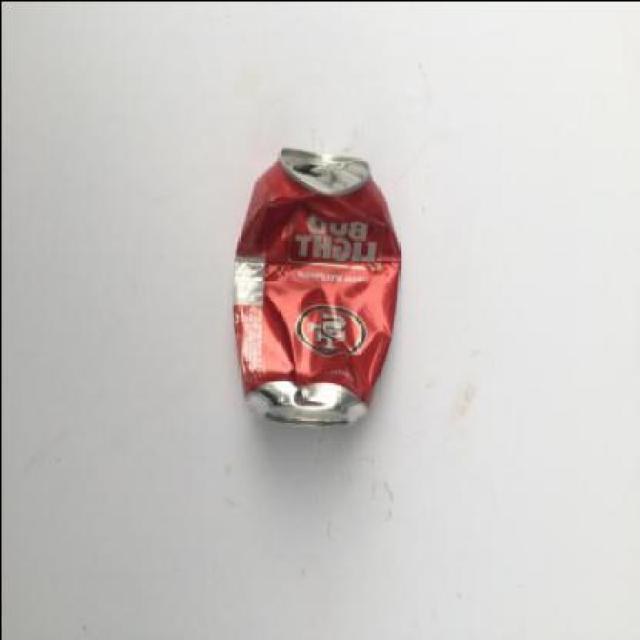METAL: (231, 147, 400, 425)
